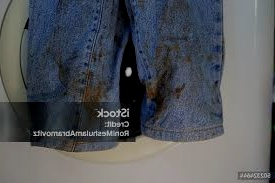earth: (147, 76, 168, 109), (80, 73, 102, 102), (162, 56, 175, 71), (174, 85, 185, 99)
